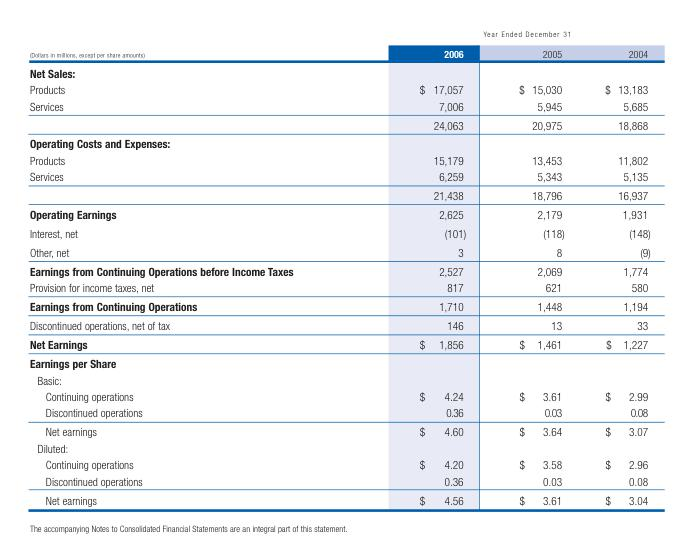table: (28, 28, 649, 505)
table column: (28, 28, 355, 505), (355, 28, 491, 505), (491, 28, 584, 505), (584, 28, 649, 505)
table column header: (28, 28, 649, 62)
table projected row header: (28, 62, 649, 80), (28, 133, 649, 151), (28, 353, 649, 371), (28, 371, 649, 387), (28, 439, 649, 455)
table row: (28, 42, 649, 62), (28, 114, 649, 133), (28, 185, 649, 204), (28, 204, 649, 223), (28, 223, 649, 242), (28, 242, 649, 261), (28, 296, 649, 315), (28, 315, 649, 334), (28, 334, 649, 353), (28, 62, 649, 80), (28, 133, 649, 151), (28, 167, 649, 185), (28, 261, 649, 279), (28, 353, 649, 371), (28, 421, 649, 439), (28, 80, 649, 97), (28, 97, 649, 114), (28, 279, 649, 296), (28, 387, 649, 404), (28, 404, 649, 421), (28, 455, 649, 472), (28, 472, 649, 489), (28, 151, 649, 167), (28, 371, 649, 387), (28, 439, 649, 455), (28, 489, 649, 505), (28, 28, 649, 42)
table spanning cell: (28, 28, 355, 62), (355, 28, 649, 42)
